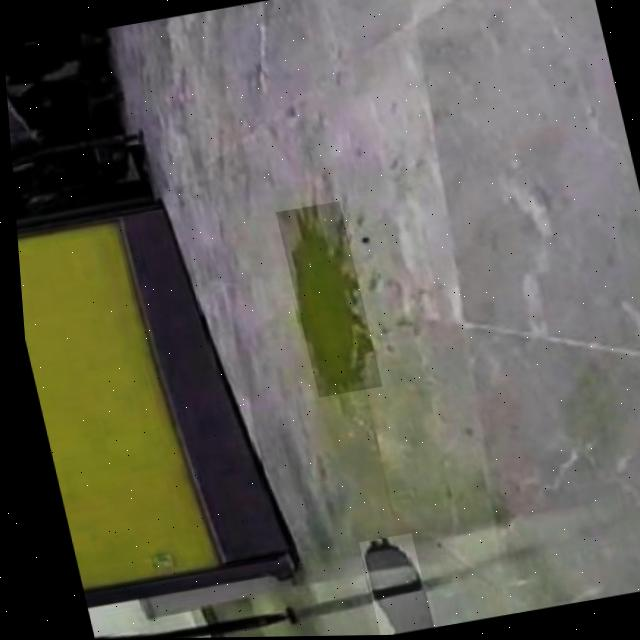spillage: (287, 209, 368, 394), (355, 540, 422, 634)
